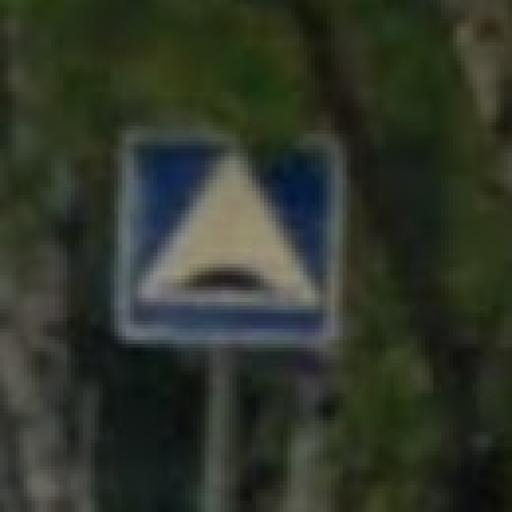traffic_sign: (115, 127, 344, 353)
